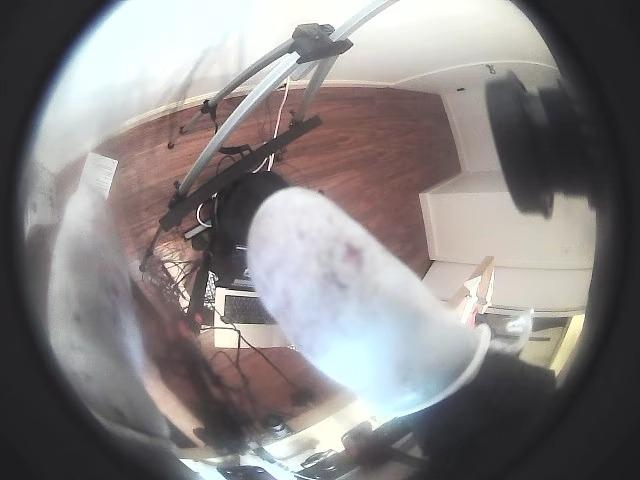gripper: (247, 187, 489, 415), (48, 185, 167, 440)
lense: (0, 0, 167, 479), (495, 0, 639, 479)
